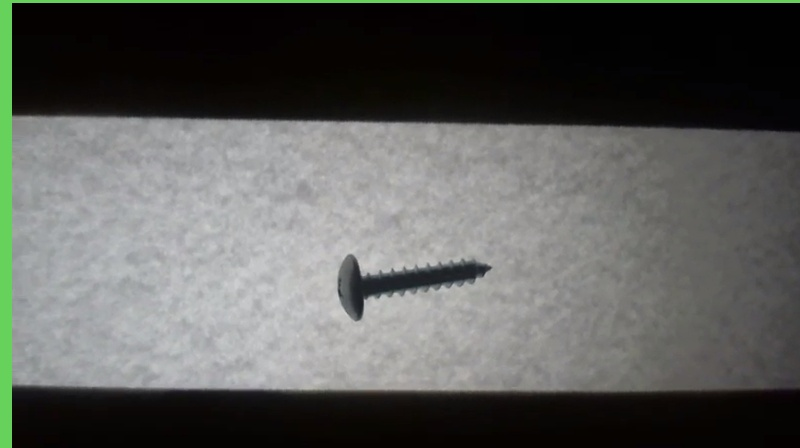S003: (331, 252, 493, 322)
